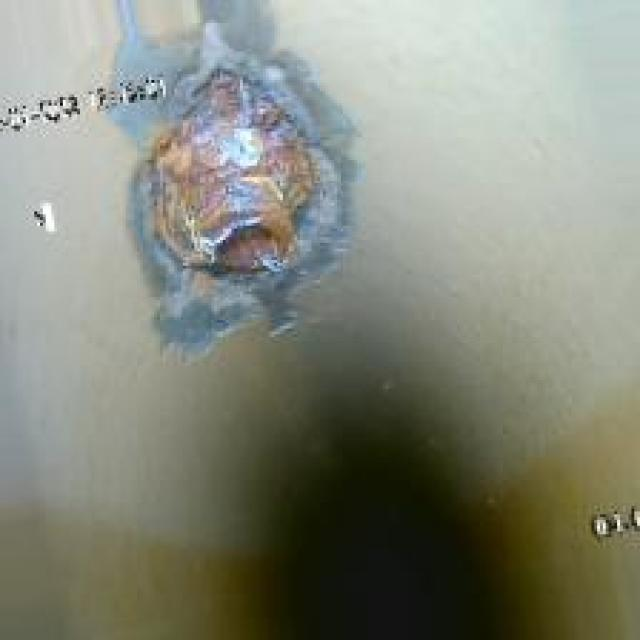ferrule: (146, 103, 314, 300)
